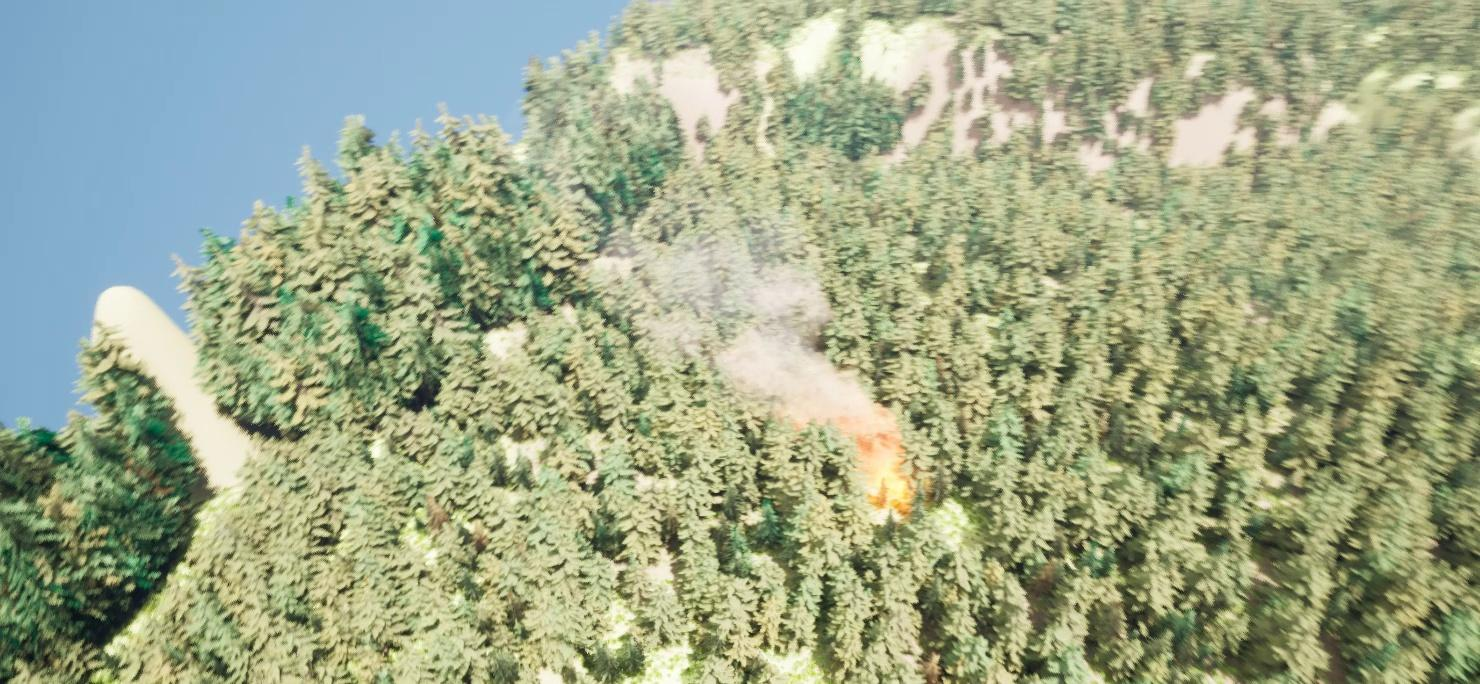fire: (852, 432, 929, 522)
smoke: (598, 211, 900, 445)
